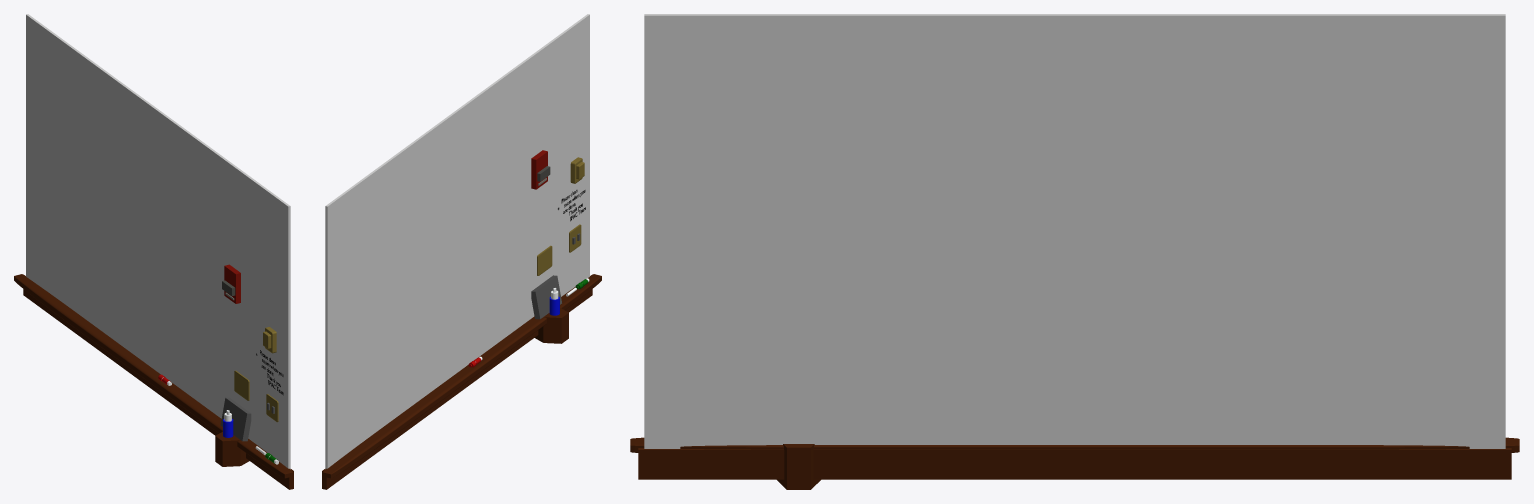
The model's file is whiteBoardER.fbx.
The picture shows the model from 3 angles, left to right: view 1: azimuth 30°, elevation 25°; view 2: azimuth 150°, elevation 25°; view 3: azimuth 270°, elevation 25°; orthographic projection. The views are drawn at different scales.
Visible parts, largest first — view 1: Cube.010, Cube, Cube.001, Cylinder, Cube.006, Cube.007, Cube.005; view 2: Cube.010, Cube, Cube.001, Cylinder, Cube.006, Cube.007, Cube.005; view 3: Cube.010, Cube.001, Cube, Cylinder.
Part boxes in pixels (x1,y1,x2,y2): Cube.010: [26, 14, 290, 469]; Cube: [14, 274, 292, 478]; Cube.001: [23, 289, 293, 489]; Cylinder: [215, 431, 249, 466]; Cube.006: [220, 397, 251, 441]; Cube.007: [224, 264, 240, 303]; Cube.005: [234, 370, 249, 400]; Cube.010: [325, 14, 589, 469]; Cube: [323, 274, 601, 478]; Cube.001: [322, 289, 592, 489]; Cylinder: [534, 308, 568, 343]; Cube.006: [531, 275, 561, 319]; Cube.007: [531, 150, 547, 189]; Cube.005: [537, 245, 552, 275]; Cube.010: [644, 14, 1505, 448]; Cube.001: [638, 448, 1511, 479]; Cube: [630, 437, 1519, 452]; Cylinder: [777, 444, 820, 489].
Bounding box in the file's own units: 102 × 956 × 1639.
